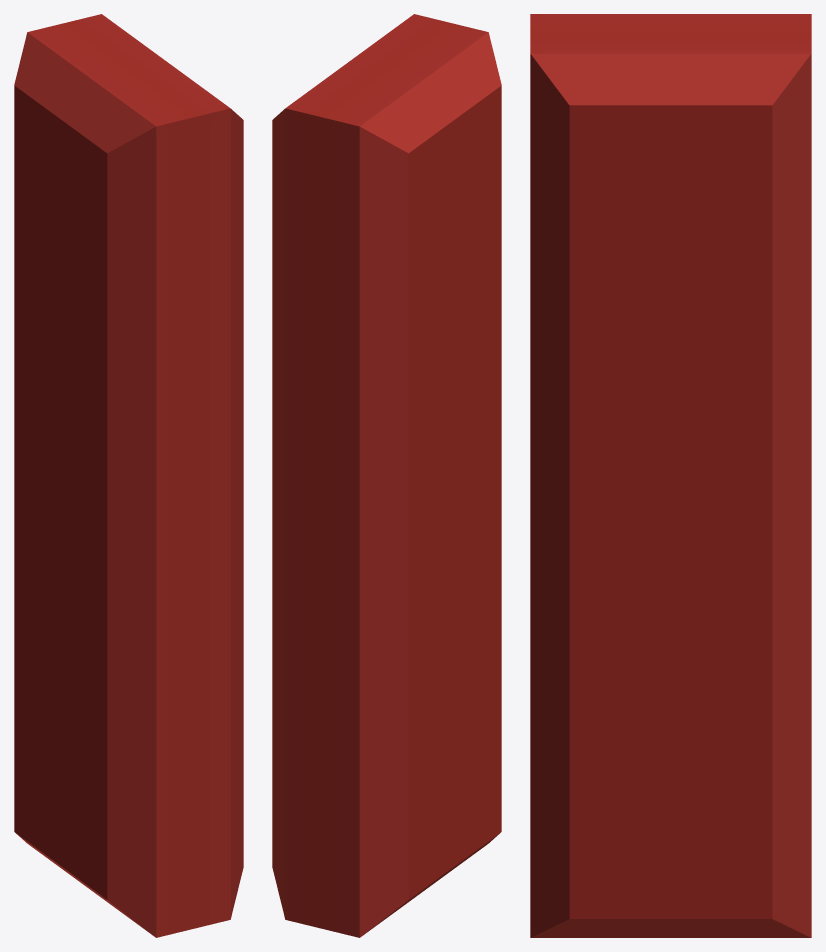
The model's file is switch_on.obj.
3 views of the same model, side by side, from view 1: azimuth 30°, elevation 25°; view 2: azimuth 150°, elevation 25°; view 3: azimuth 270°, elevation 25° (orthographic). The views are drawn at different scales.
Parts seen in each view (by area): view 1: switch_on_handle; view 2: switch_on_handle; view 3: switch_on_handle.
Part boxes in pixels (box(x1,y1,x2,y2)): switch_on_handle: box(14, 14, 243, 937); switch_on_handle: box(272, 14, 501, 937); switch_on_handle: box(530, 14, 811, 937).
Bounding box in the file's own units: 0.0275 × 0.1563 × 0.045.
